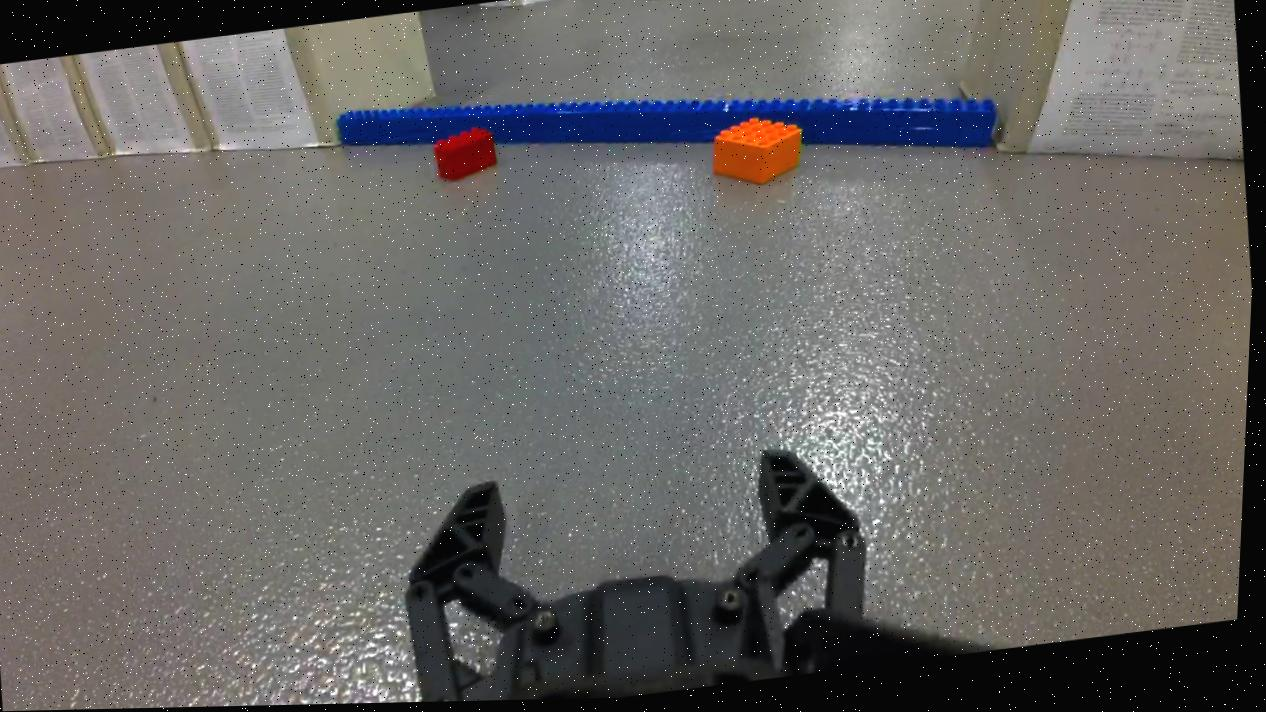2x4lego: (430, 127, 502, 185)
4x4lego: (707, 113, 811, 196)
